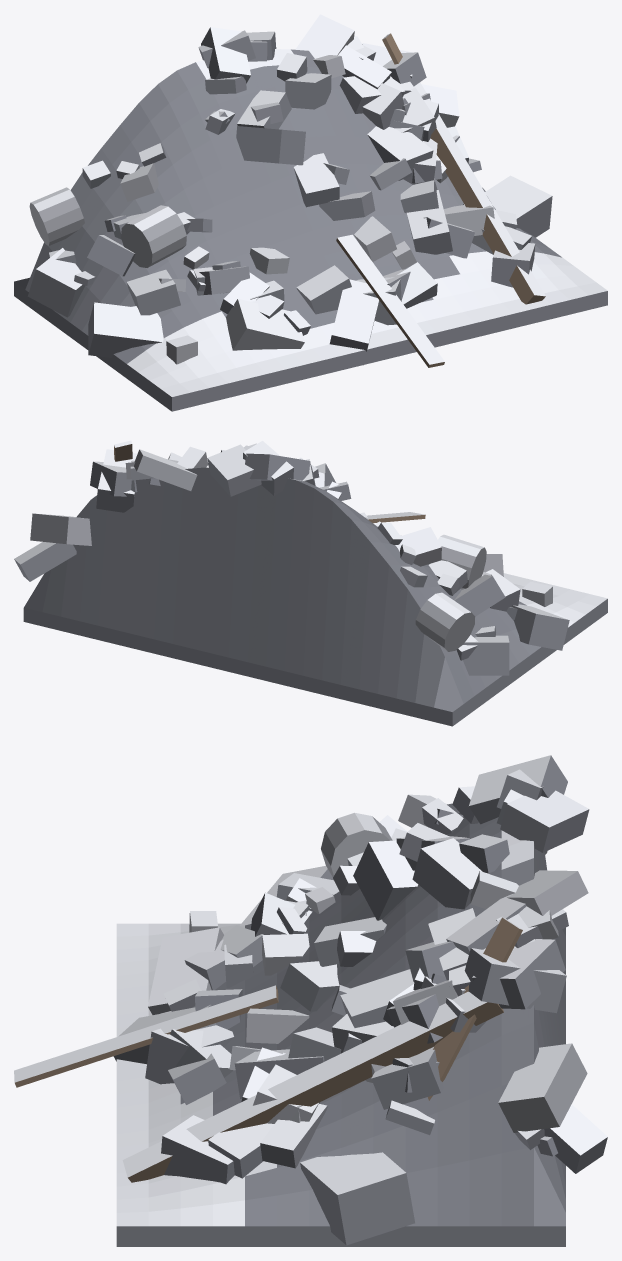
The model's file is PR_Escombros_Encostado_C.fbx.
3 renders of one model, top to bottom at view 1: azimuth 30°, elevation 25°; view 2: azimuth 150°, elevation 25°; view 3: azimuth 270°, elevation 25°, orthographic. The views are drawn at different scales.
Parts seen in each view (by area): view 1: PR_Escombros_Encostado_C; view 2: PR_Escombros_Encostado_C; view 3: PR_Escombros_Encostado_C.
Part boxes in pixels (<box>): PR_Escombros_Encostado_C: <box>14,14,607,411</box>; PR_Escombros_Encostado_C: <box>14,440,607,726</box>; PR_Escombros_Encostado_C: <box>14,755,607,1246</box>.
Size of the model in its own units: 10.36 by 4.77 by 7.8.
